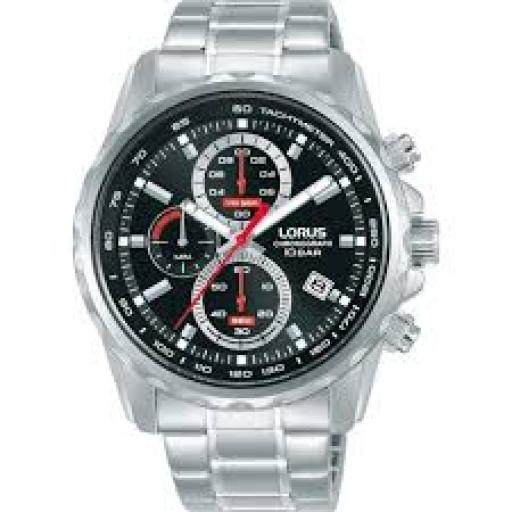KolSaati: (72, 0, 452, 512)
